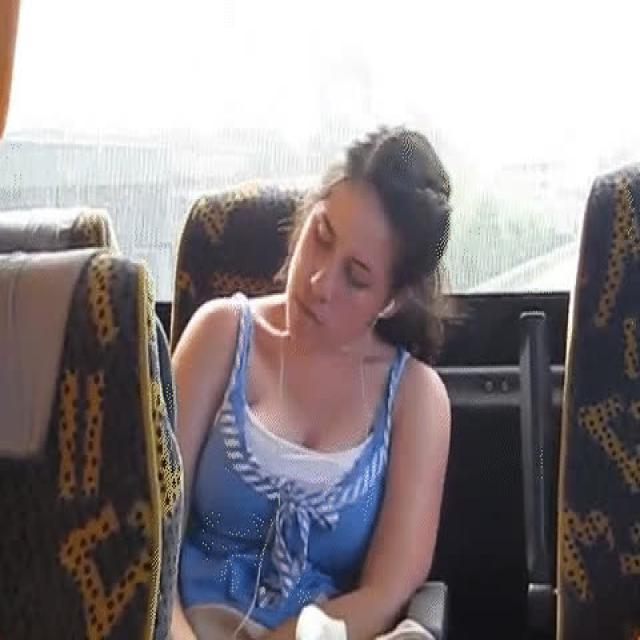no-seatbelt: (284, 119, 468, 351)
